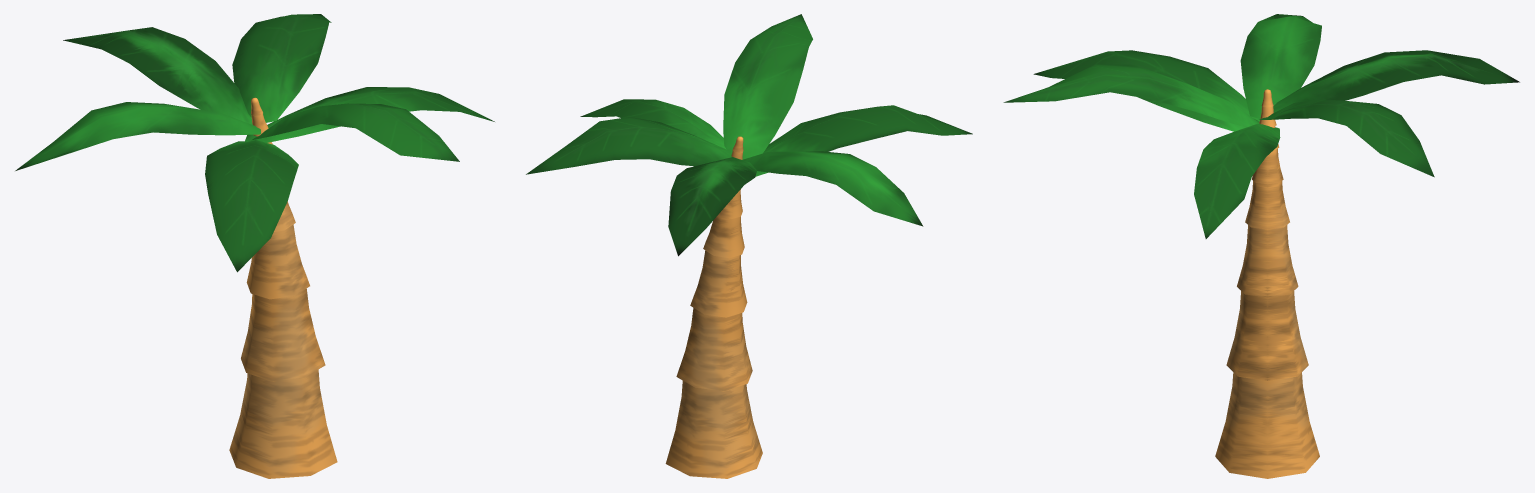
File: my_palm_tree.glb
3 views of the same model, side by side, from view 1: azimuth 30°, elevation 25°; view 2: azimuth 150°, elevation 25°; view 3: azimuth 270°, elevation 25° (orthographic). The views are drawn at different scales.
Visible parts, largest first — view 1: Leaves, Trunk; view 2: Leaves, Trunk; view 3: Leaves, Trunk.
Part boxes in pixels (box(x1,y1,x2,y2)): Leaves: box(15, 14, 494, 272); Trunk: box(229, 97, 337, 478); Leaves: box(526, 14, 972, 256); Trunk: box(665, 136, 762, 478); Leaves: box(1003, 14, 1519, 238); Trunk: box(1215, 89, 1319, 478).
Size of the model in its own units: 4.83 by 4.31 by 5.17.
2 materials, 2 textured.
